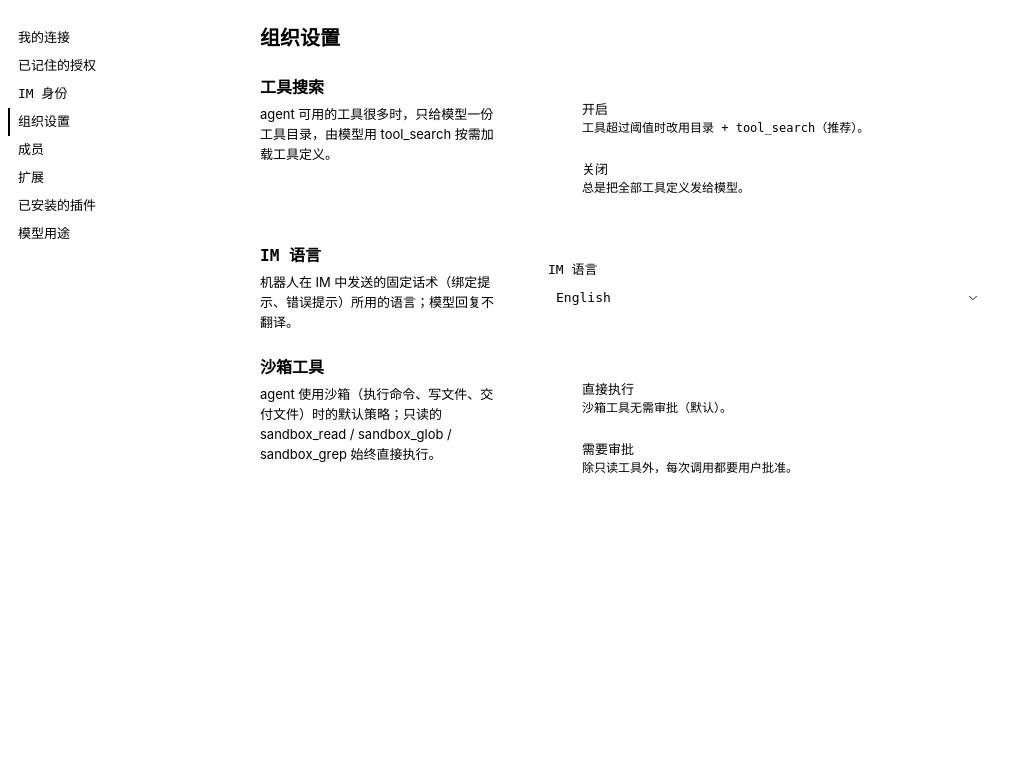
it: 组织设置（SettingsPage） › 管理员：沙箱工具改为「需要审批」→ 保存 PATCH sandboxToolPolicy（zh）
Click the radio button labelled "需要审批 除只读工具外，每次调用都要用户批准。": (690, 458) [582, 442, 798, 475]
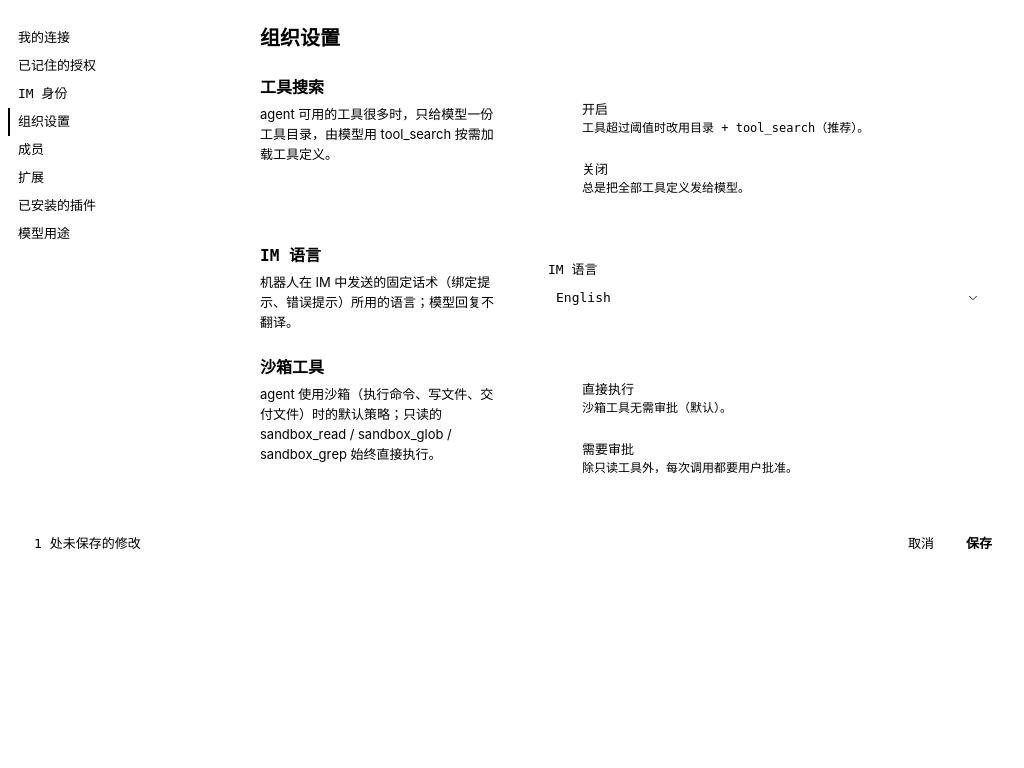
expect the element named "待提交改动" is shown: met, box [0, 524, 1023, 564]
Click the button "保存": (979, 544) [954, 530, 1004, 558]
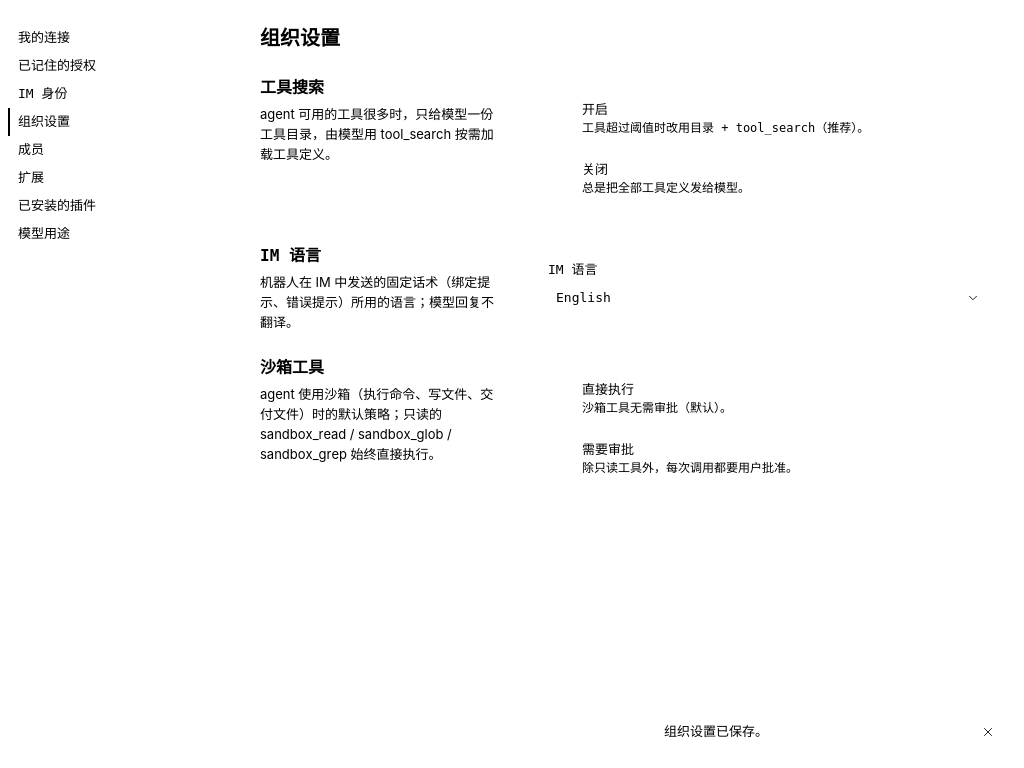
expect the element "待提交改动" is gone: met
